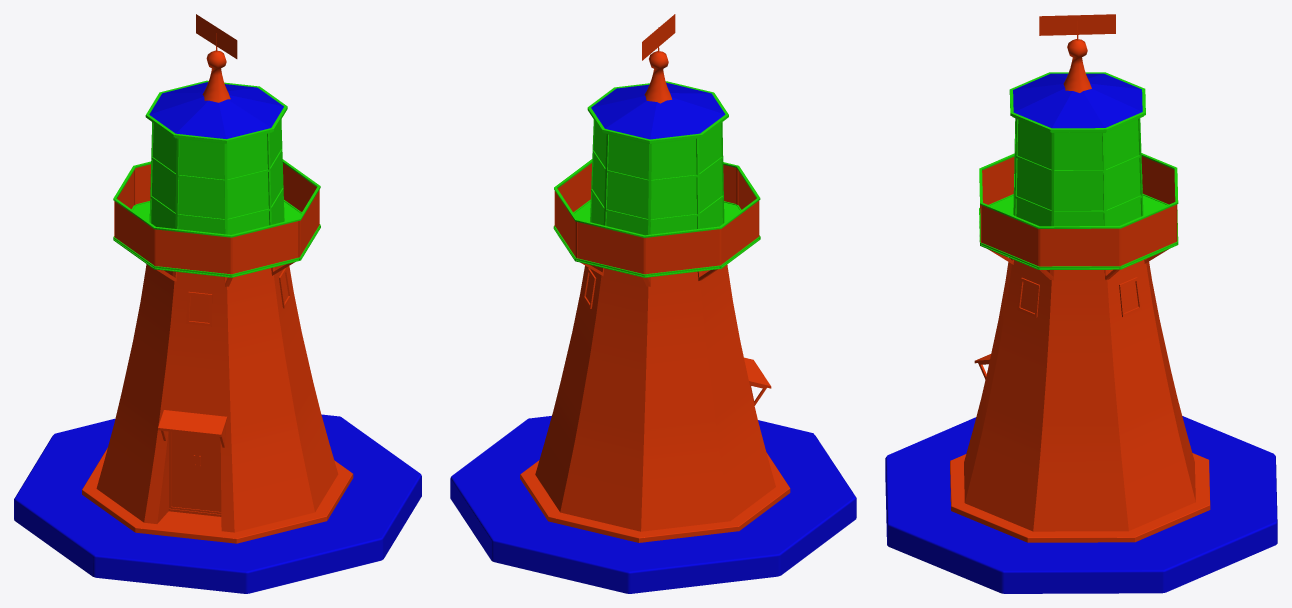
Rendered from lighthouse.fbx.
The picture shows the model from 3 angles, left to right: view 1: azimuth 30°, elevation 25°; view 2: azimuth 150°, elevation 25°; view 3: azimuth 270°, elevation 25°; orthographic projection. The views are drawn at different scales.
Parts seen in each view (by area): view 1: lighthouse_v1_low; view 2: lighthouse_v1_low; view 3: lighthouse_v1_low.
Boxes of the visible parts, x1,y1,x2,y2 form: lighthouse_v1_low: [14, 14, 421, 593]; lighthouse_v1_low: [450, 14, 856, 593]; lighthouse_v1_low: [885, 14, 1277, 593].
Size of the model in its own units: 811 by 1131 by 811.
